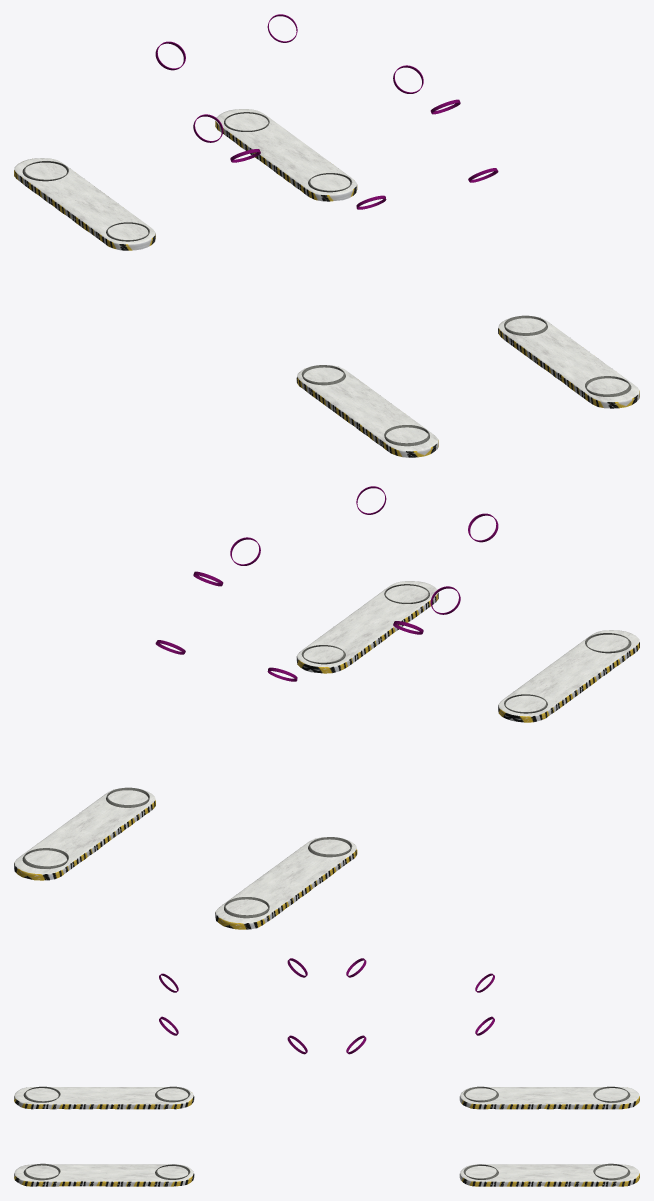
The model's file is BaseDetails.glb.
3 views of the same model, one above another, from view 1: azimuth 30°, elevation 25°; view 2: azimuth 150°, elevation 25°; view 3: azimuth 270°, elevation 25° (orthographic). The views are drawn at different scales.
Visible parts, largest first — view 1: Cylinder.002; view 2: Cylinder.002; view 3: Cylinder.002.
Part boxes in pixels (x1,y1,x2,y2): Cylinder.002: (14, 14, 639, 457); Cylinder.002: (14, 486, 639, 929); Cylinder.002: (14, 958, 639, 1186).
Size of the model in its own units: 20.5 by 14.35 by 57.12.
Materials: 4 (3 with a texture image).
